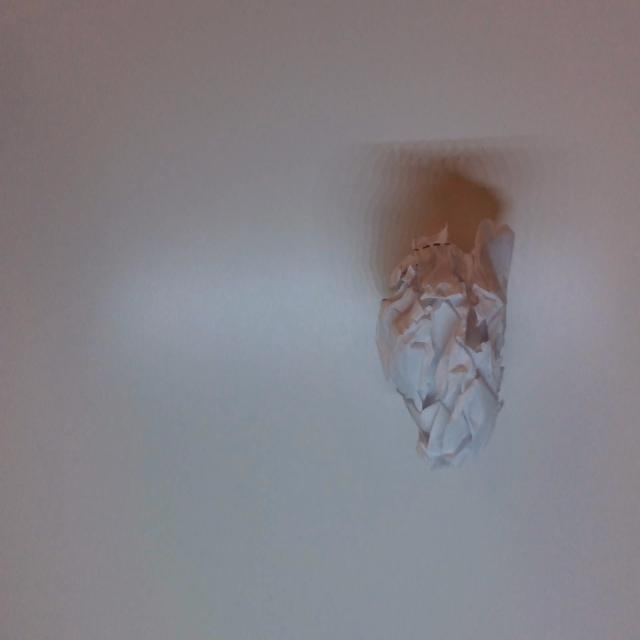Paper: (377, 230, 509, 472)
